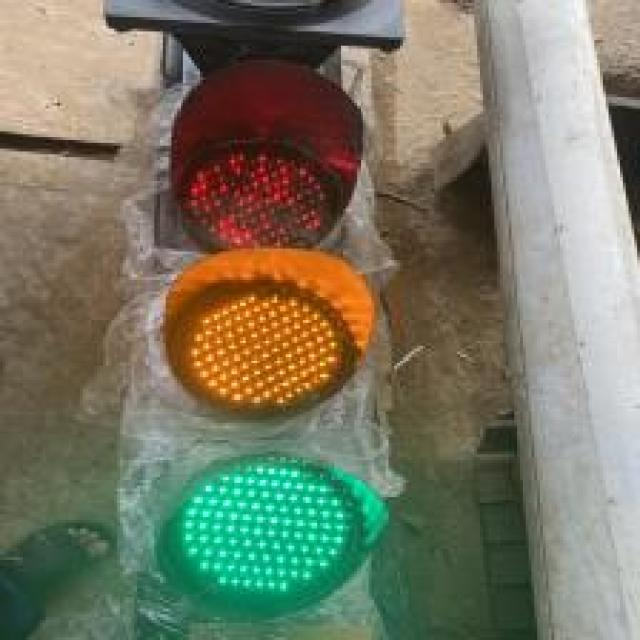green-lights: (164, 453, 390, 596)
red-lights: (185, 136, 356, 248)
yellow-lights: (184, 269, 364, 409)
